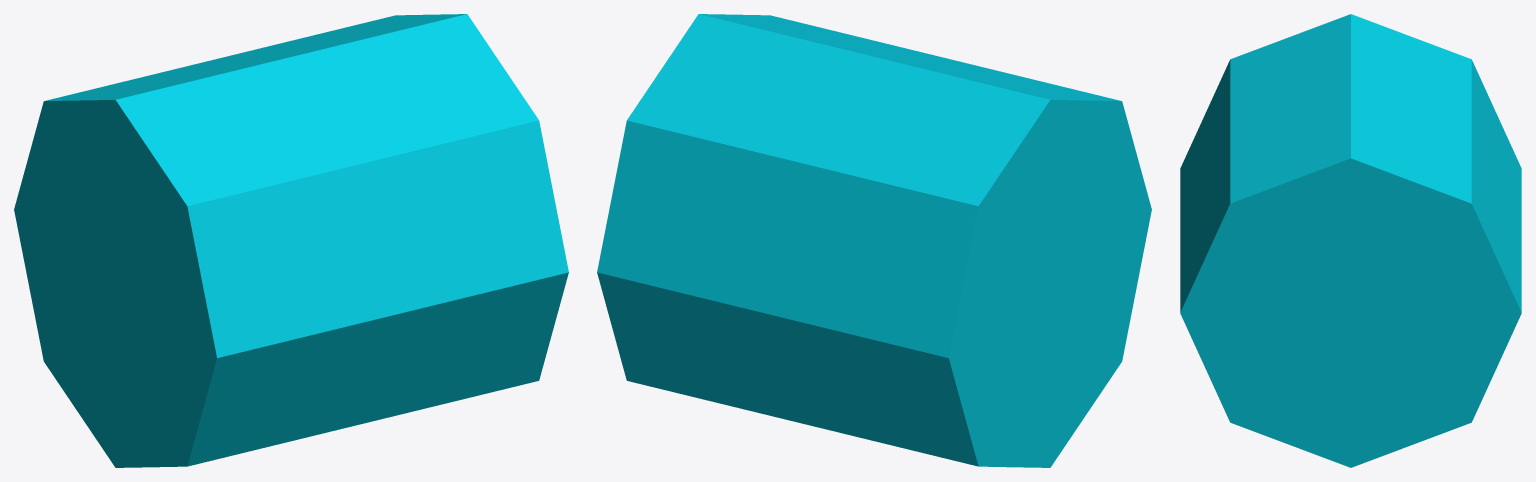
File: EvenBetterBeam.fbx
The picture shows the model from 3 angles, left to right: view 1: azimuth 30°, elevation 25°; view 2: azimuth 150°, elevation 25°; view 3: azimuth 270°, elevation 25°; orthographic projection. The views are drawn at different scales.
Visible parts, largest first — view 1: Cylinder; view 2: Cylinder; view 3: Cylinder.
Part boxes in pixels (x1,y1,x2,y2): Cylinder: (14,14,568,467); Cylinder: (597,14,1151,467); Cylinder: (1180,14,1521,467).
Size of the model in its own units: 10 by 10 by 10.
